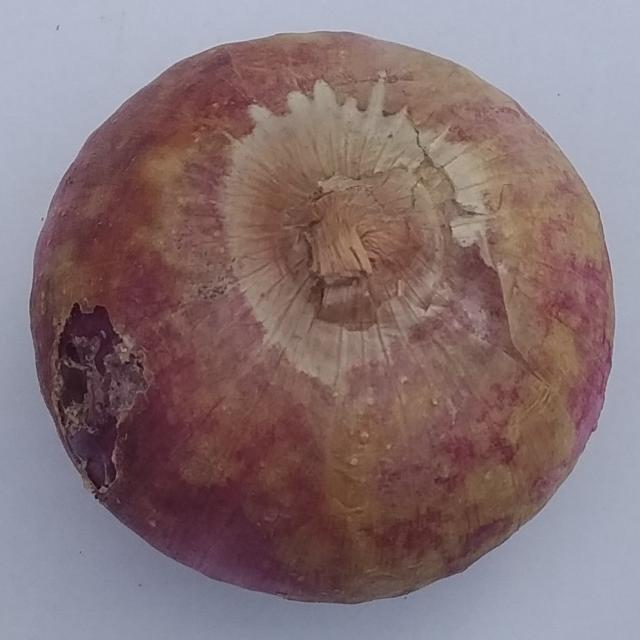onion: (29, 28, 619, 607)
